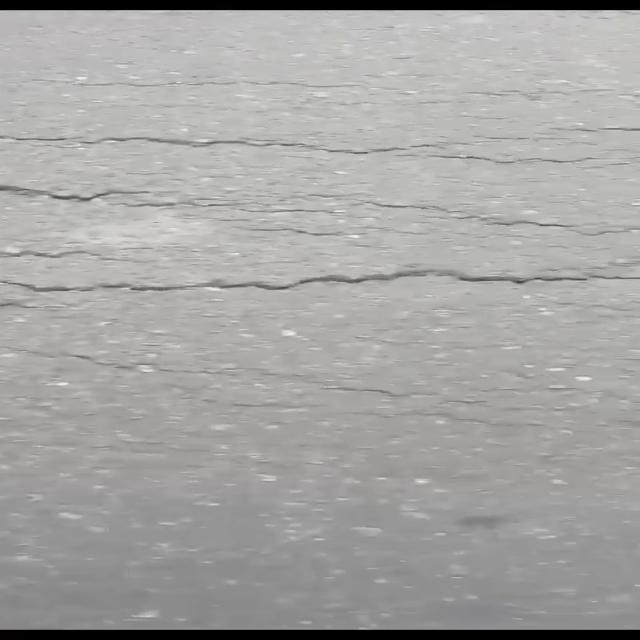Melintang: (0, 118, 574, 180), (0, 256, 640, 310)
